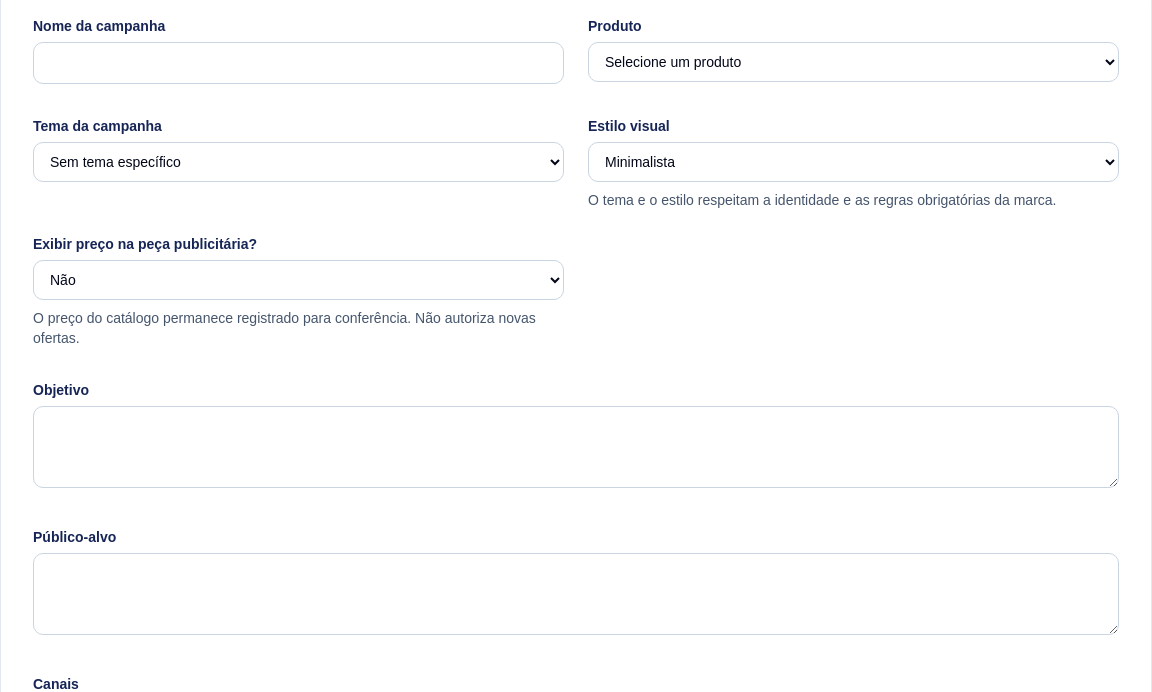
Scenario: briefing › preserva o briefing após 502 e permite nova tentativa explícita
Type "Campanha teste" into the field labelled "Nome da campanha".
click(298, 63); type("Campanha teste")  # box [33,42,564,84]
Select "Sabonete Brisa" in the dropdown labelled "Produto" at (854, 62), box [588,42,1119,82]
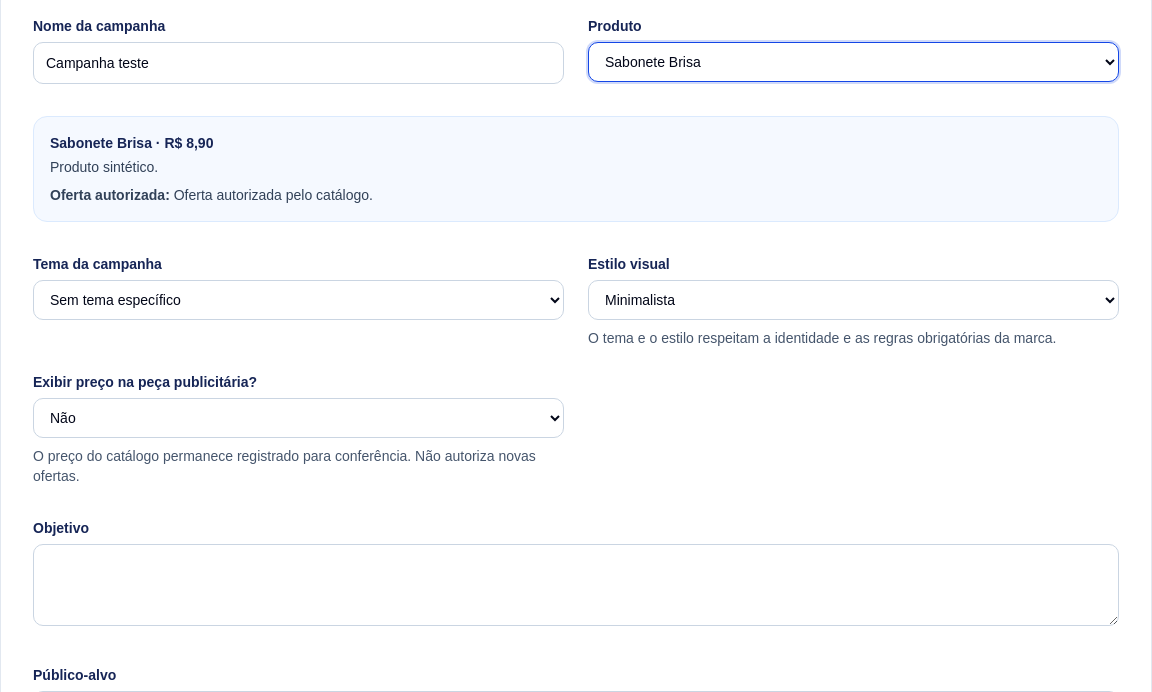
Type "Divulgar" into the text box labelled "Objetivo".
click(576, 585); type("Divulgar")  # box [33,544,1119,626]
(page scrolled)
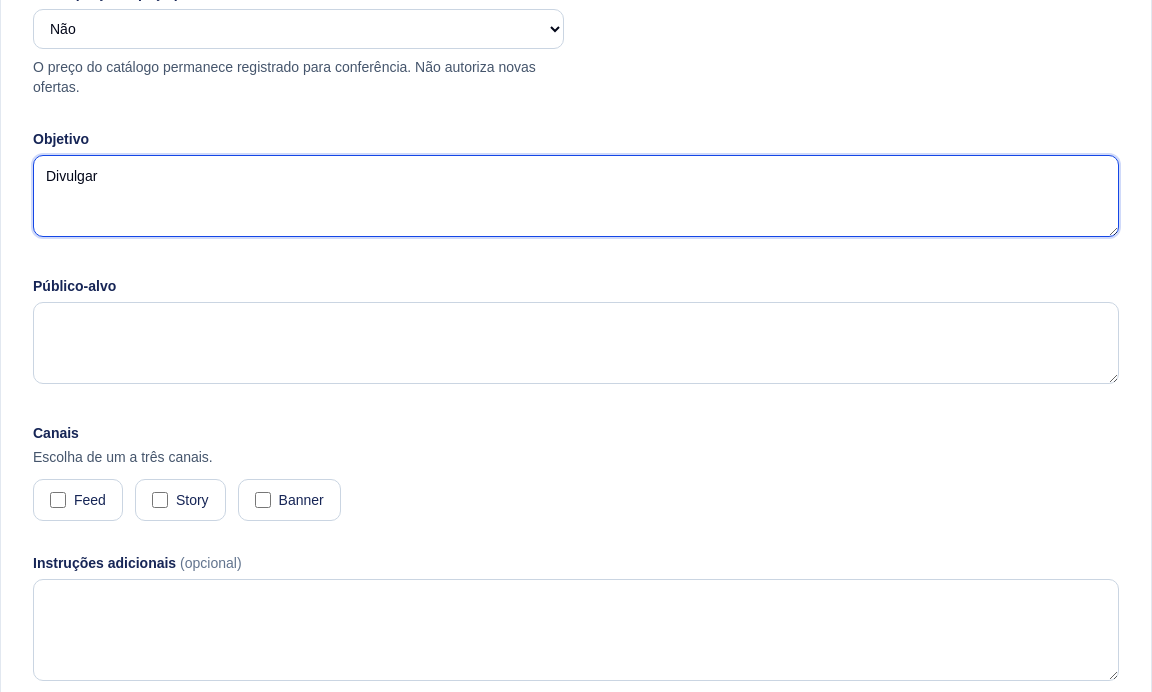
Type "Adultos" into the text box labelled "Público-alvo".
click(576, 343); type("Adultos")  # box [33,302,1119,384]
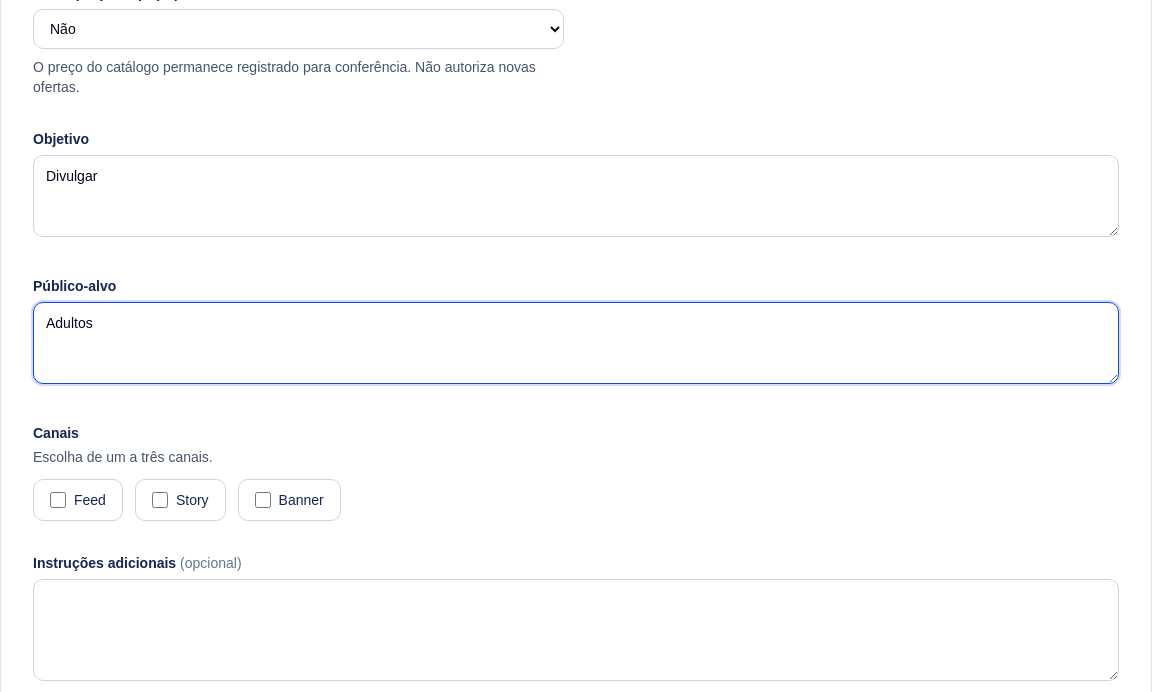
Click the checkbox labelled "Feed".
click(58, 500)  # box [50,492,66,508]
(page scrolled)
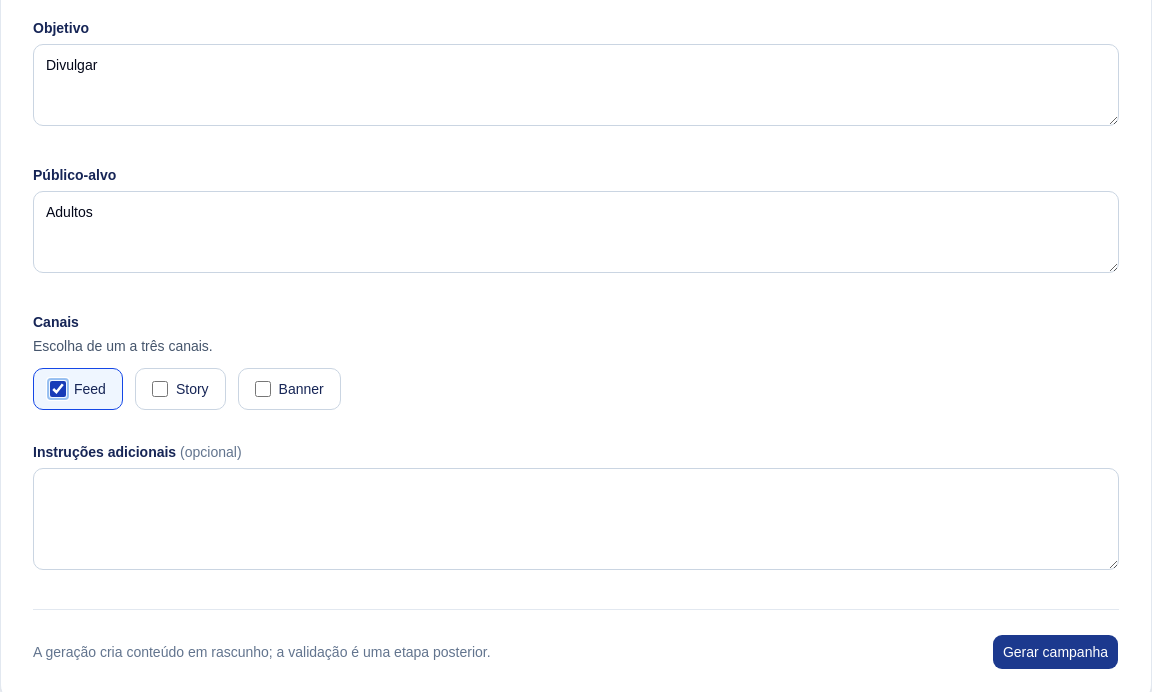
Click the button "Gerar campanha".
click(1055, 652)  # box [992,634,1119,670]
(page scrolled)
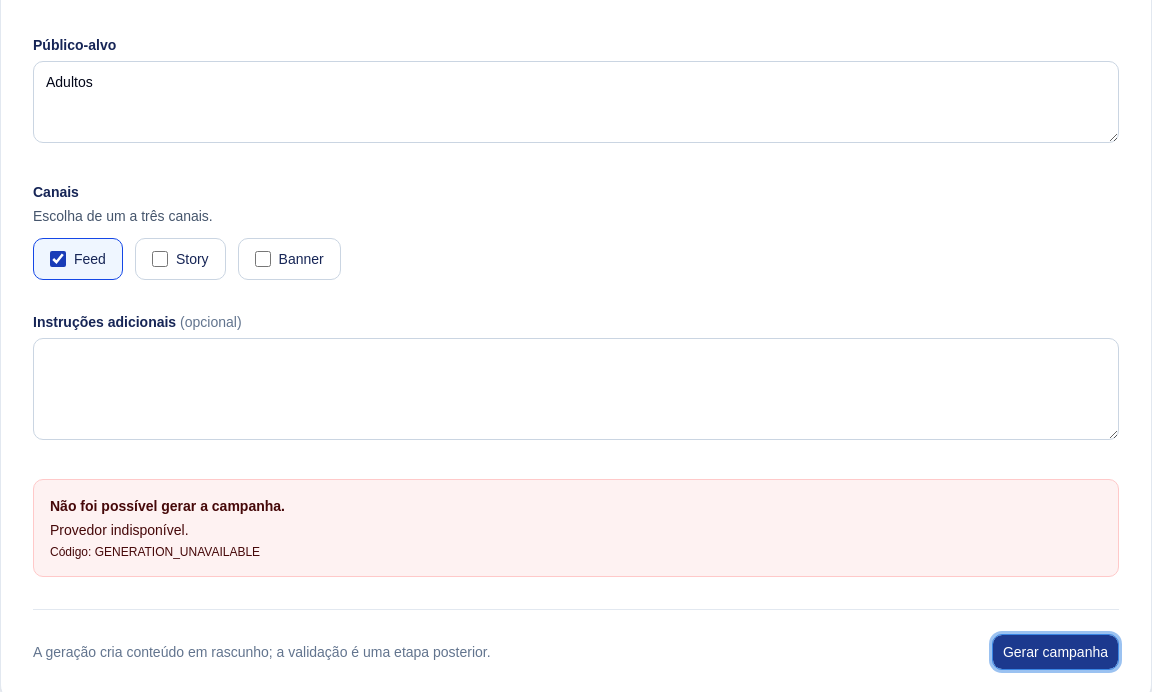
Expected: the text "Provedor indisponível." is shown, [50,522,188,538]
Click the button "Gerar campanha".
click(1055, 652)  # box [992,634,1119,670]
(page scrolled)
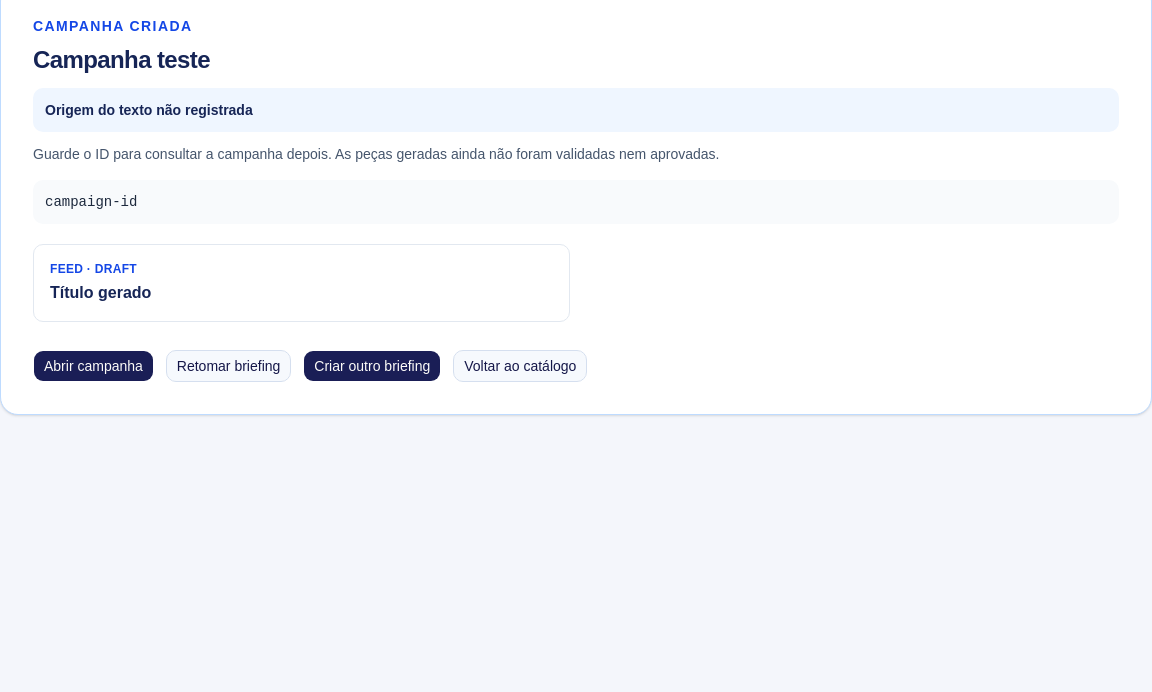
Expected: the text "campaign-id" is shown, [33,180,1119,224]
